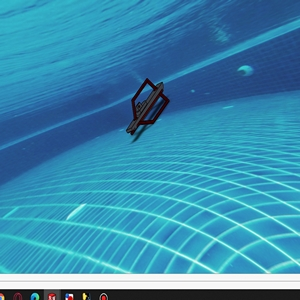submarine: (120, 82, 185, 139)
